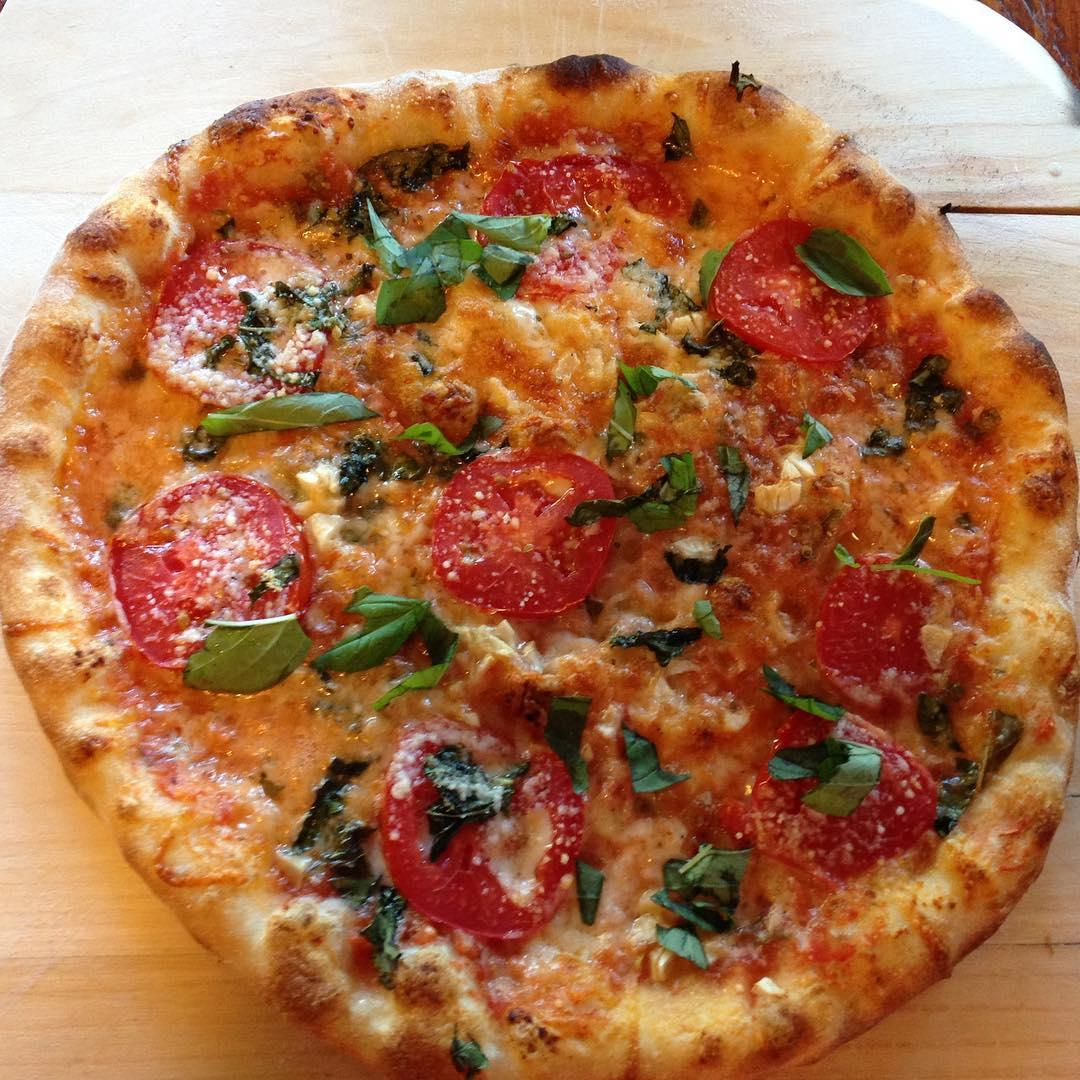Basil: (515, 668, 671, 800), (748, 671, 879, 814), (375, 203, 549, 309), (278, 738, 385, 898), (918, 701, 1023, 844), (328, 411, 504, 492), (868, 340, 979, 466), (180, 373, 371, 441), (613, 453, 725, 568), (610, 576, 730, 674), (648, 830, 747, 936), (798, 213, 897, 311), (183, 620, 309, 688), (348, 868, 415, 984), (348, 598, 465, 664), (590, 361, 665, 457), (646, 920, 716, 987), (560, 858, 620, 929), (436, 1016, 499, 1080), (794, 404, 835, 463)
Pepperoni: (386, 716, 577, 910), (113, 483, 299, 656), (696, 208, 867, 367), (431, 443, 599, 590), (763, 711, 935, 852), (481, 153, 629, 313), (145, 248, 311, 389), (816, 548, 959, 698)
Pizza: (25, 63, 1080, 1080)
